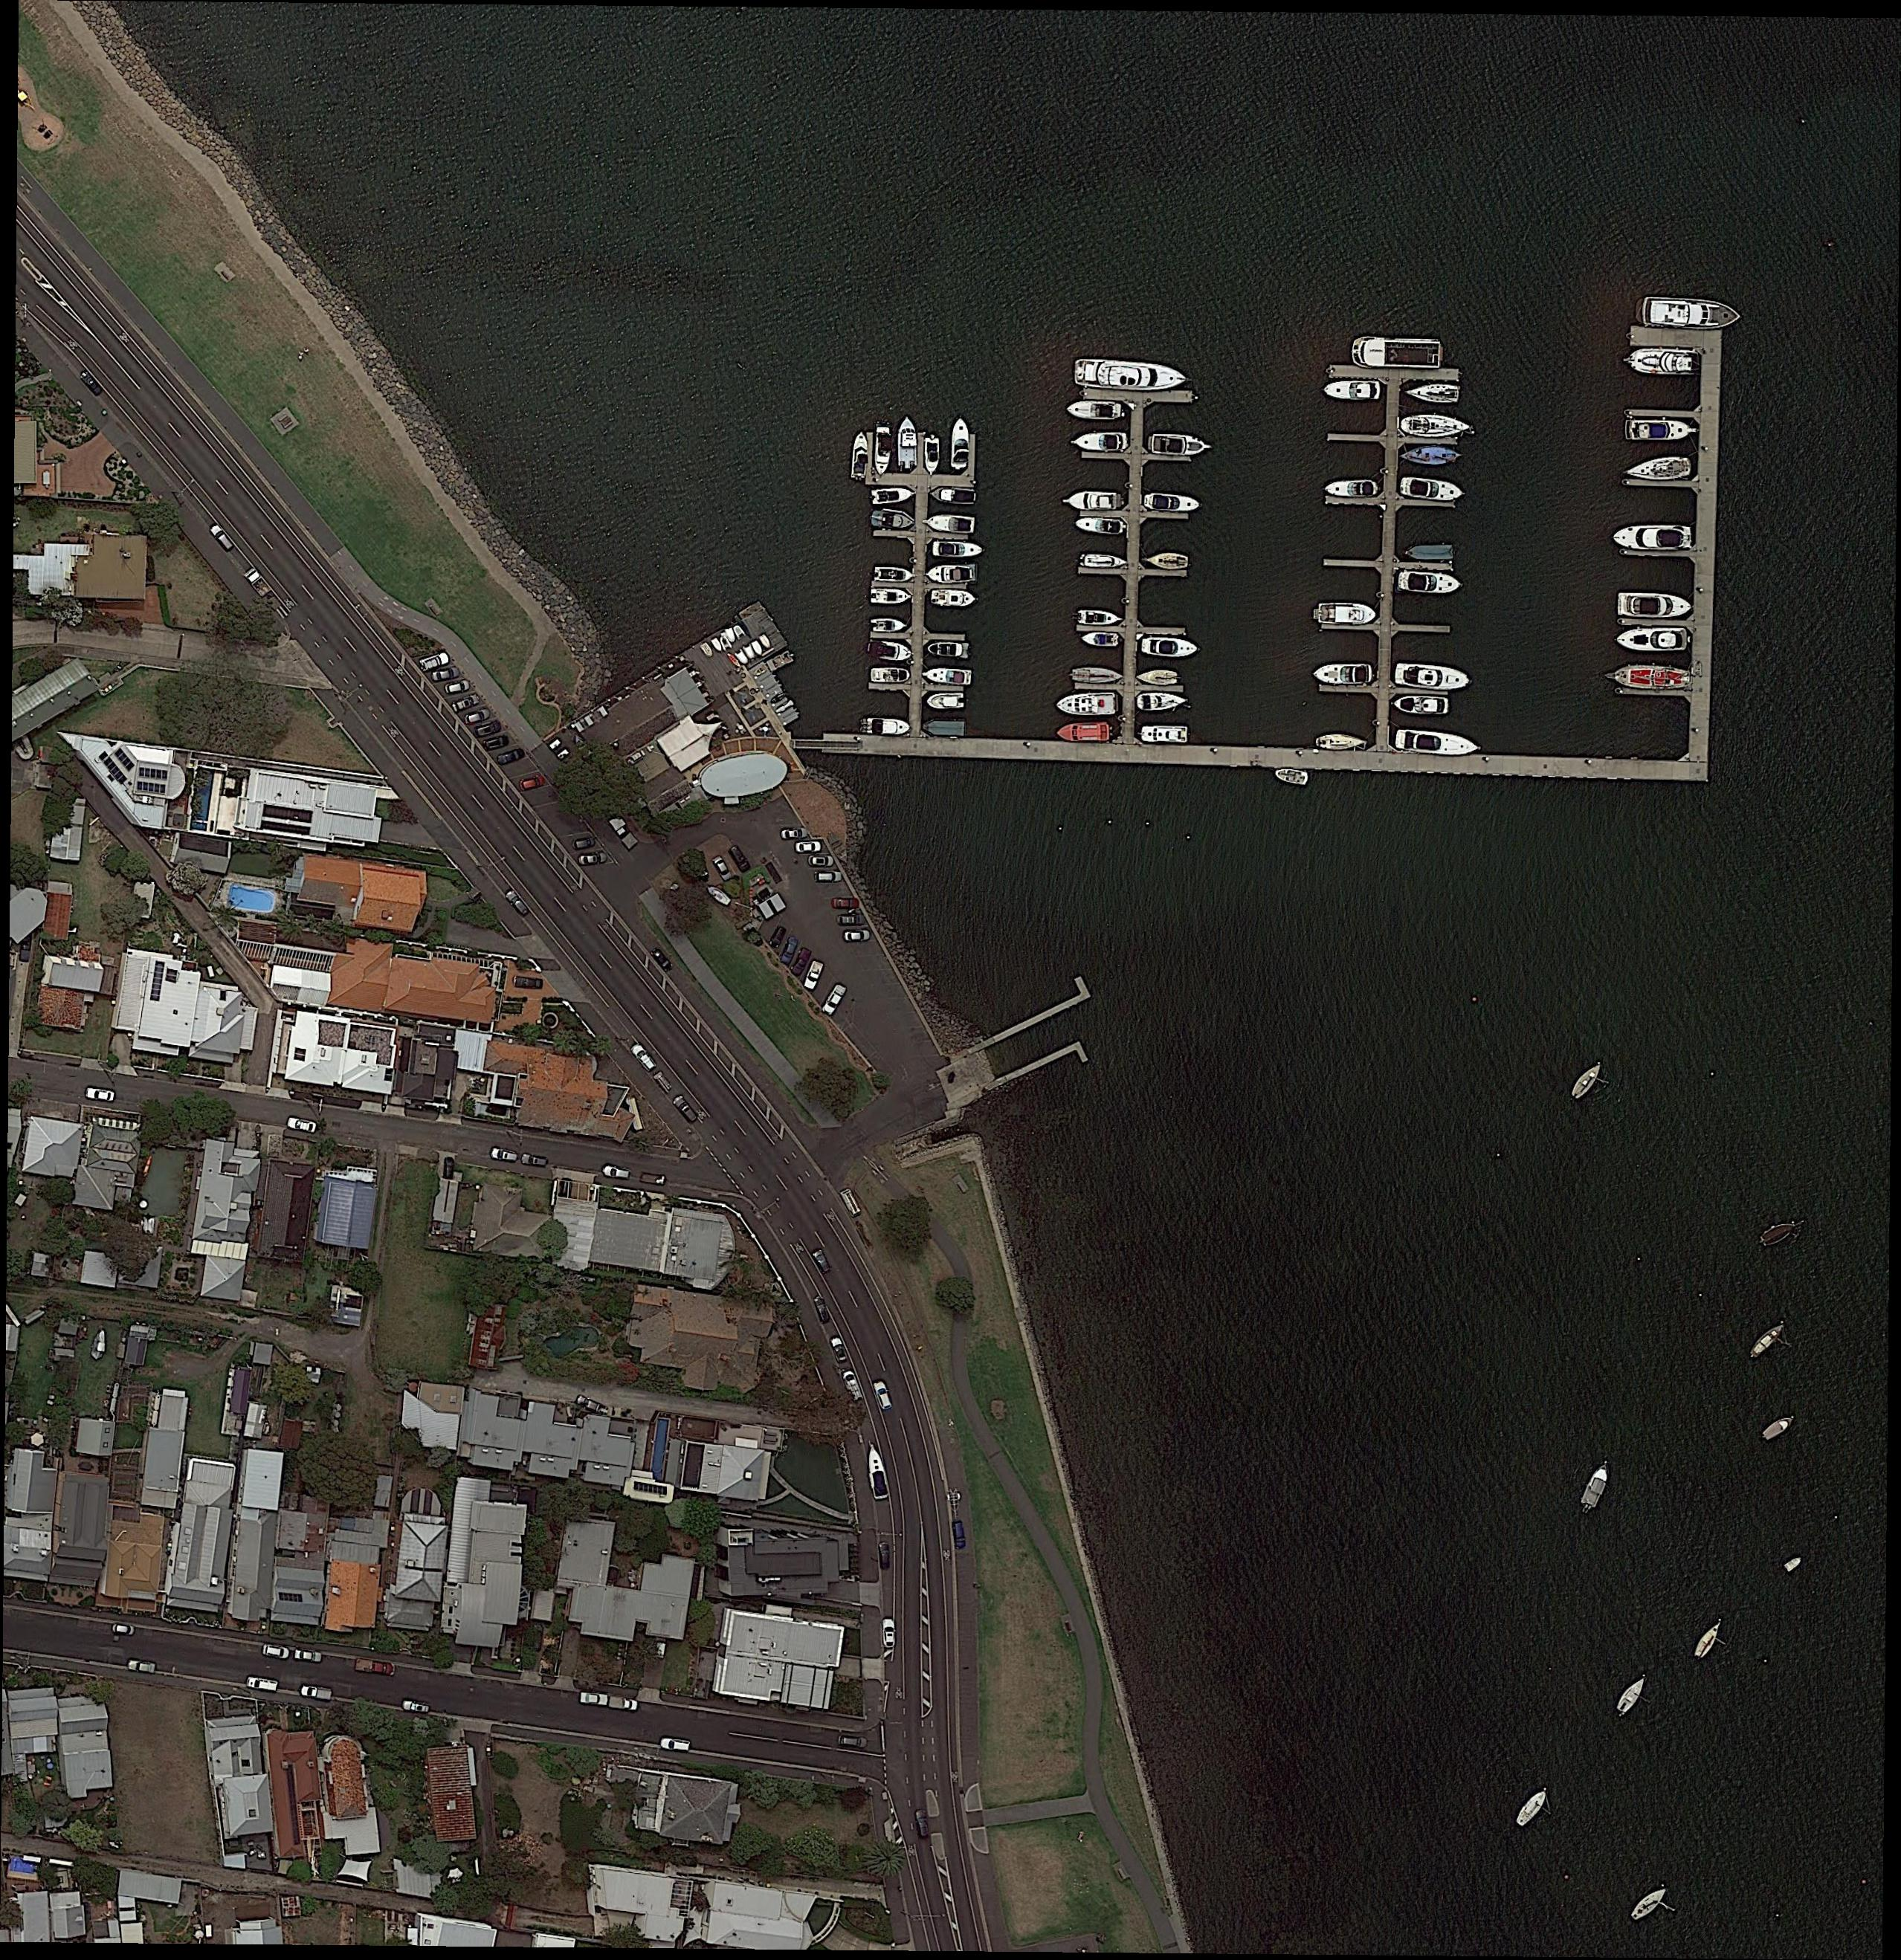harbor: (1322, 362, 1467, 749), (1605, 325, 1722, 763), (1080, 388, 1196, 744), (866, 474, 979, 735), (1623, 688, 1691, 696), (968, 434, 977, 476), (1075, 977, 1091, 999), (1075, 1041, 1089, 1062), (917, 434, 924, 474), (866, 434, 873, 474)
ship: (1635, 296, 1742, 331), (1075, 359, 1187, 390), (1395, 726, 1483, 761), (1351, 336, 1442, 369), (1393, 663, 1472, 691), (1617, 591, 1693, 619), (1612, 525, 1691, 551), (1607, 663, 1691, 688), (1624, 348, 1701, 374), (1399, 474, 1465, 504), (1399, 413, 1472, 439), (1628, 1881, 1672, 1925), (1512, 1787, 1554, 1831), (1612, 1671, 1652, 1717), (1397, 569, 1465, 595), (1581, 1459, 1616, 1510), (1616, 626, 1687, 651), (1567, 1059, 1605, 1104), (1626, 457, 1691, 483), (1057, 691, 1119, 717), (1693, 1615, 1728, 1661), (1148, 432, 1213, 457), (863, 1444, 889, 1501), (1749, 1321, 1787, 1360), (1313, 602, 1378, 625), (1626, 420, 1696, 441), (1757, 1218, 1803, 1249), (1399, 444, 1463, 466), (1313, 663, 1372, 686), (866, 637, 914, 665), (1145, 492, 1201, 514), (1141, 635, 1196, 658), (1323, 380, 1381, 401), (1393, 695, 1451, 716), (1066, 401, 1122, 422), (926, 513, 975, 536), (1064, 492, 1122, 511), (1057, 721, 1110, 742), (1761, 1412, 1798, 1442), (1071, 432, 1127, 452), (1407, 383, 1458, 404), (1325, 480, 1379, 499), (898, 416, 917, 471), (870, 509, 915, 532), (1077, 516, 1126, 537), (861, 716, 910, 737), (1138, 693, 1190, 712), (922, 667, 973, 686), (931, 588, 977, 609), (928, 563, 977, 583), (1071, 667, 1124, 684), (933, 541, 982, 558), (952, 420, 970, 469), (872, 486, 915, 506), (1141, 726, 1189, 744), (1316, 735, 1367, 751), (851, 432, 868, 478), (1274, 765, 1309, 787), (931, 486, 977, 504), (1145, 553, 1189, 570), (928, 640, 970, 658), (1082, 553, 1127, 569), (1078, 611, 1124, 626), (875, 429, 891, 474), (872, 667, 910, 684), (1136, 670, 1178, 686), (705, 884, 732, 908), (873, 567, 914, 583), (870, 588, 910, 604), (870, 618, 908, 633), (926, 693, 965, 709), (1080, 632, 1119, 647), (924, 438, 940, 474), (1782, 1554, 1803, 1575)
